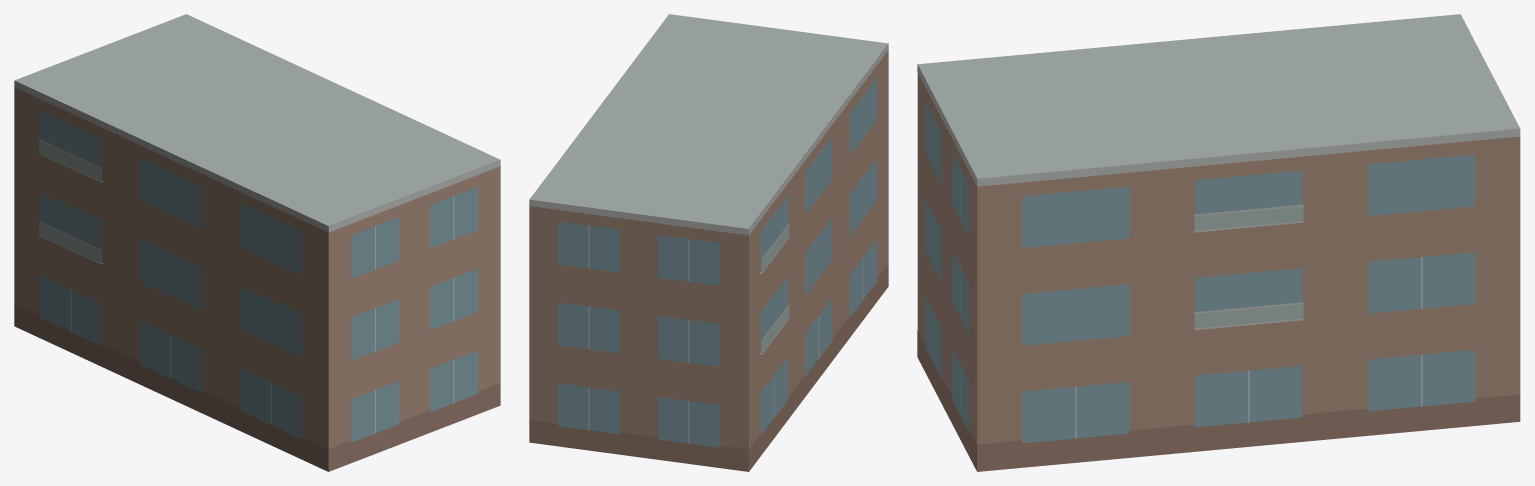
The model's file is survey-upis-32705002.glb.
3 views of the same model, side by side, from view 1: azimuth 30°, elevation 25°; view 2: azimuth 150°, elevation 25°; view 3: azimuth 270°, elevation 25° (orthographic). The views are drawn at different scales.
Visible parts, largest first — view 1: survey-upis-32705002.tmp; view 2: survey-upis-32705002.tmp; view 3: survey-upis-32705002.tmp.
Part boxes in pixels (<box>): survey-upis-32705002.tmp: <box>14,14,500,471</box>; survey-upis-32705002.tmp: <box>529,14,888,471</box>; survey-upis-32705002.tmp: <box>917,14,1520,471</box>.
Bounding box in the file's own units: 11.05 × 9.15 × 17.07.
